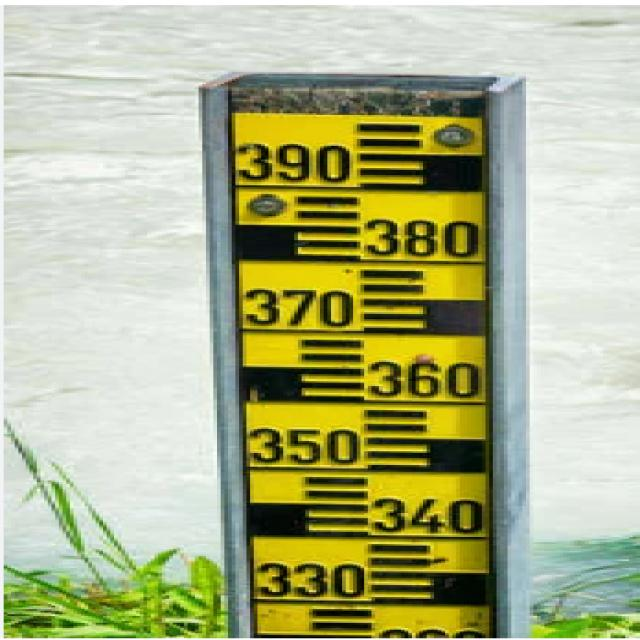ruler: (200, 93, 537, 636)
value: (220, 134, 365, 188), (232, 420, 376, 471), (230, 280, 369, 332), (240, 555, 378, 605), (360, 354, 495, 404), (363, 490, 498, 540), (355, 214, 494, 262)
